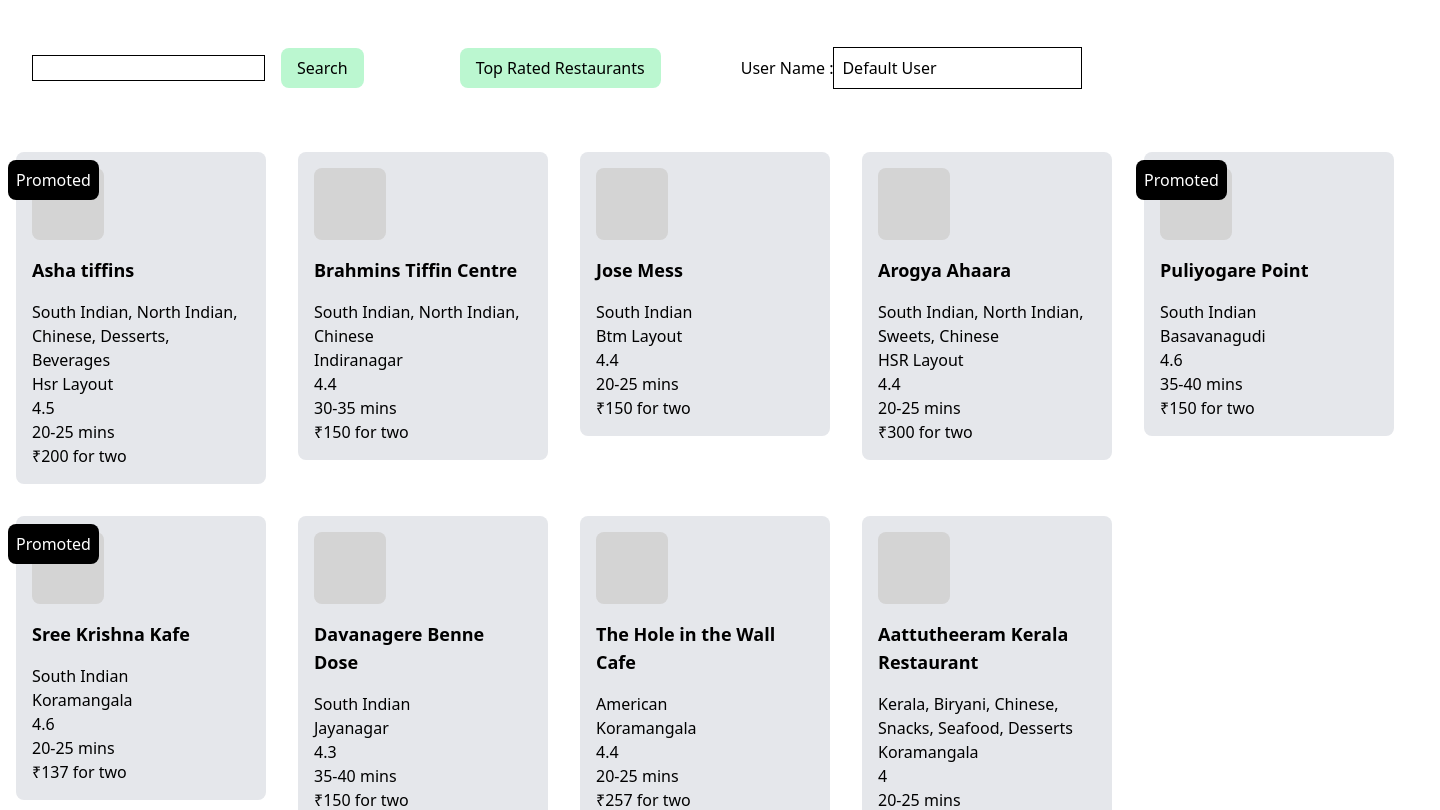
Test: Should search res list for tiffin input
Type "tiffin" into the field with test id "searchInput" at (148, 68), box [32, 55, 265, 81]
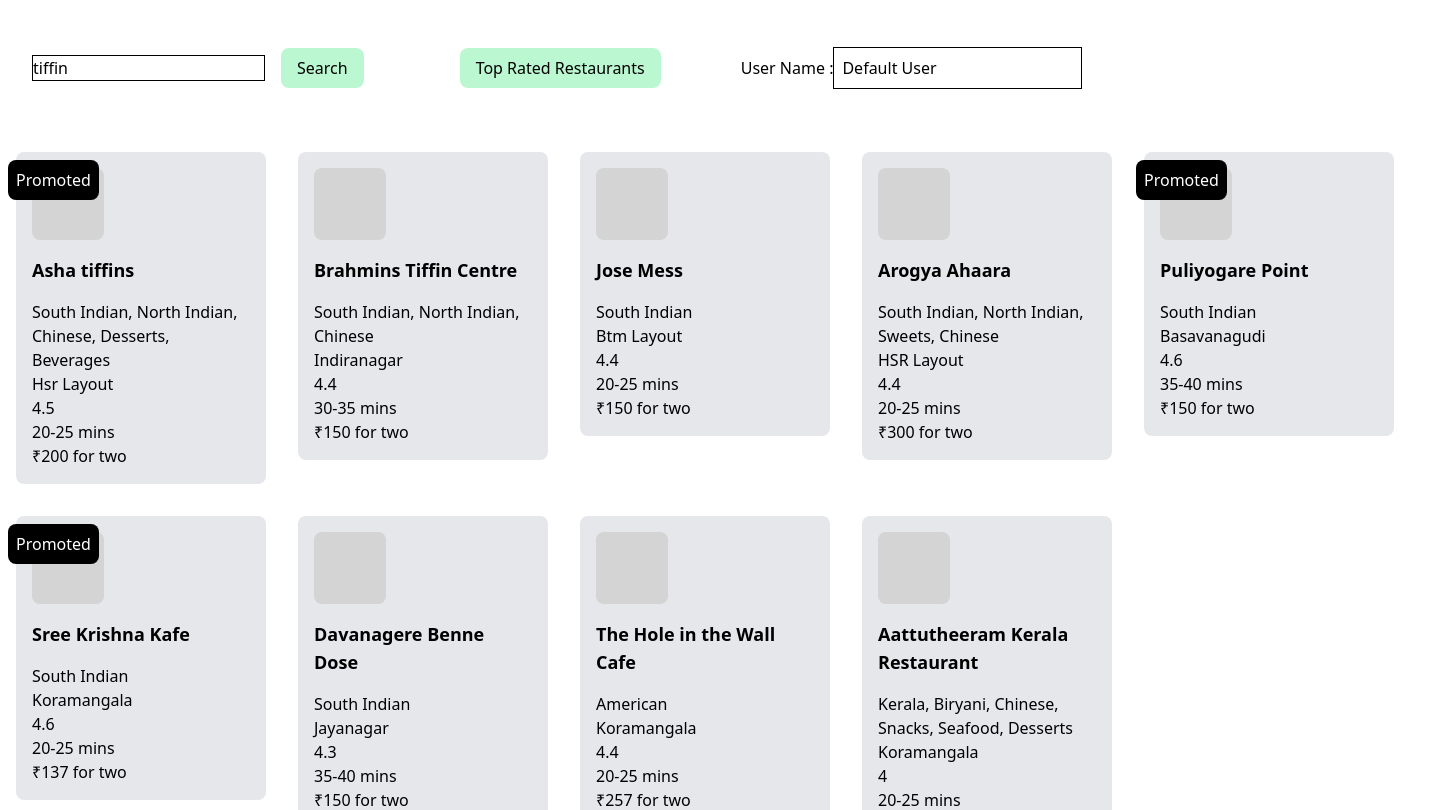
Click the button "Search" at (322, 68), box [281, 48, 364, 88]
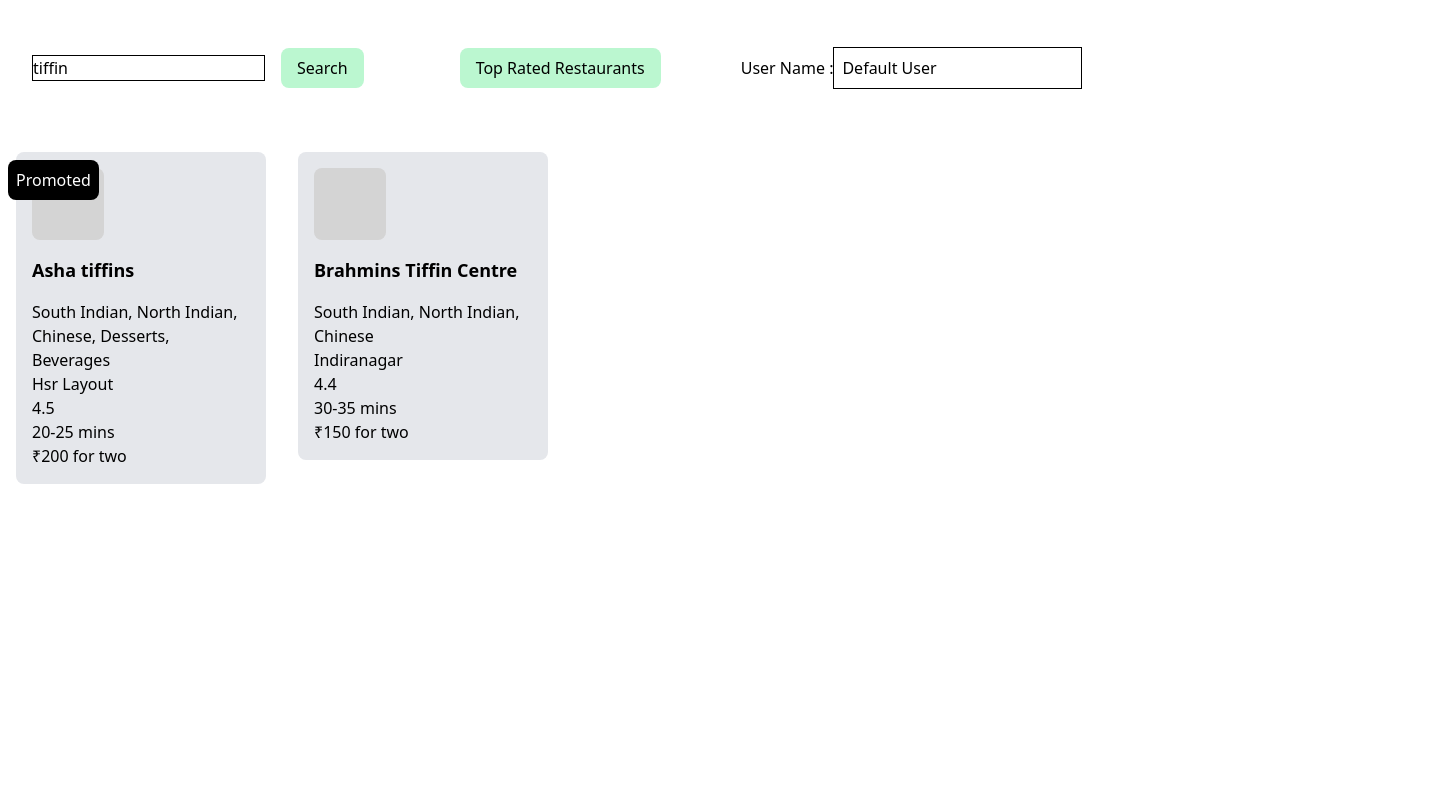
Check: the number of elements with test id "resCard" is 2, box [16, 152, 266, 484]; [298, 152, 548, 460]
